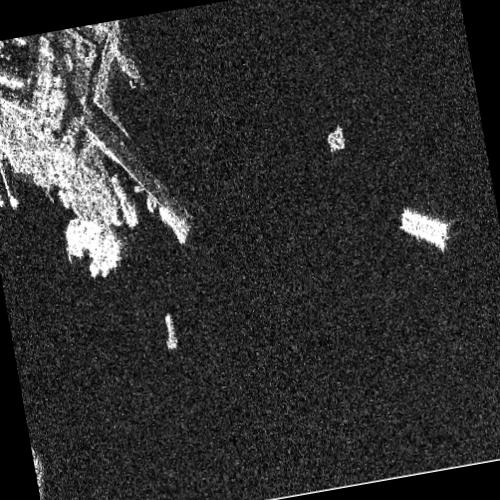ship: (399, 207, 449, 251), (164, 312, 177, 350)
